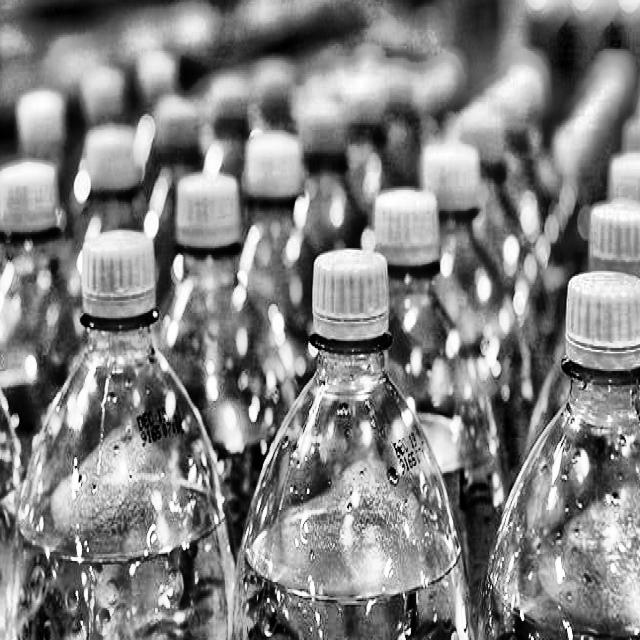bottle: (8, 177, 238, 640), (230, 218, 472, 640), (474, 249, 640, 640), (0, 132, 84, 468)
